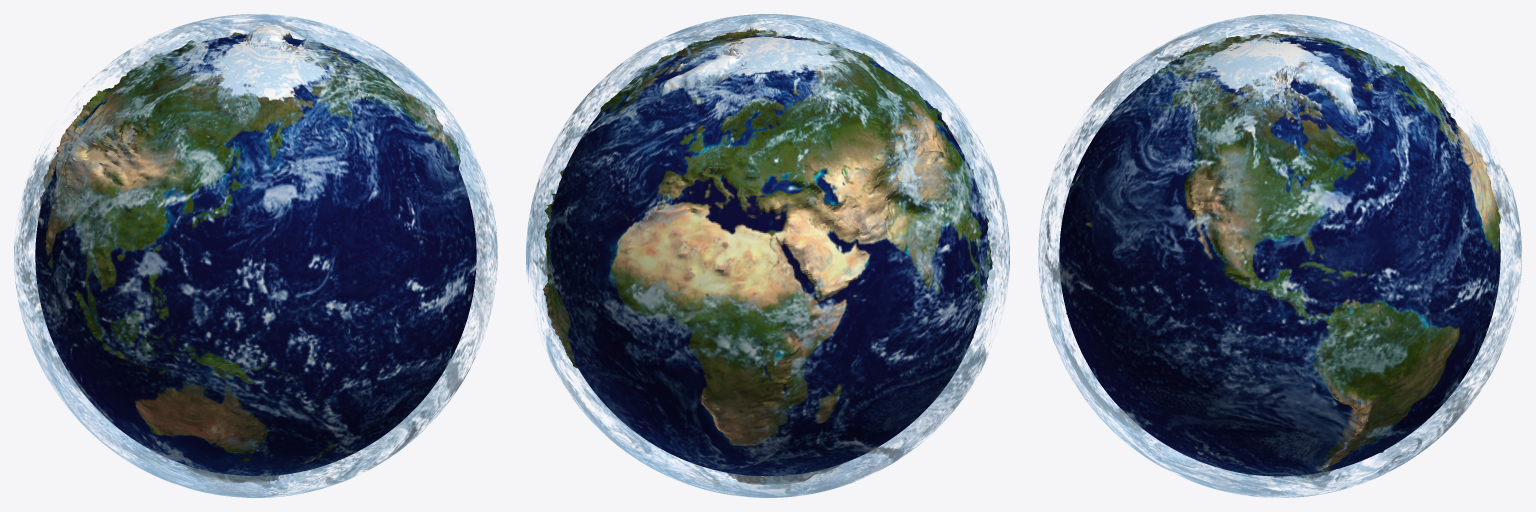
The model's file is mcd-atmosphere.glb.
3 views of the same model, side by side, from view 1: azimuth 30°, elevation 25°; view 2: azimuth 150°, elevation 25°; view 3: azimuth 270°, elevation 25° (orthographic).
Parts seen in each view (by area): view 1: Object_5, Object_3, Object_4, Object_2, Object_6; view 2: Object_4, Object_5, Object_3, Object_2, Object_6; view 3: Object_4, Object_2, Object_5, Object_3, Object_6.
Part boxes in pixels (bbox=[...]): Object_5: bbox=[35, 55, 366, 483]; Object_3: bbox=[14, 36, 384, 497]; Object_4: bbox=[43, 25, 476, 468]; Object_2: bbox=[44, 14, 497, 491]; Object_6: bbox=[43, 28, 456, 481]; Object_4: bbox=[544, 27, 927, 386]; Object_5: bbox=[543, 38, 992, 484]; Object_3: bbox=[553, 20, 1009, 497]; Object_2: bbox=[526, 14, 917, 368]; Object_6: bbox=[548, 27, 990, 478]; Object_4: bbox=[1059, 32, 1500, 475]; Object_2: bbox=[1039, 14, 1521, 491]; Object_5: bbox=[1059, 38, 1497, 479]; Object_3: bbox=[1038, 22, 1521, 497]; Object_6: bbox=[1086, 34, 1476, 478].
Bounding box in the file's own units: 2.2 × 2.2 × 2.2.
Materials: 2 (2 with a texture image).
